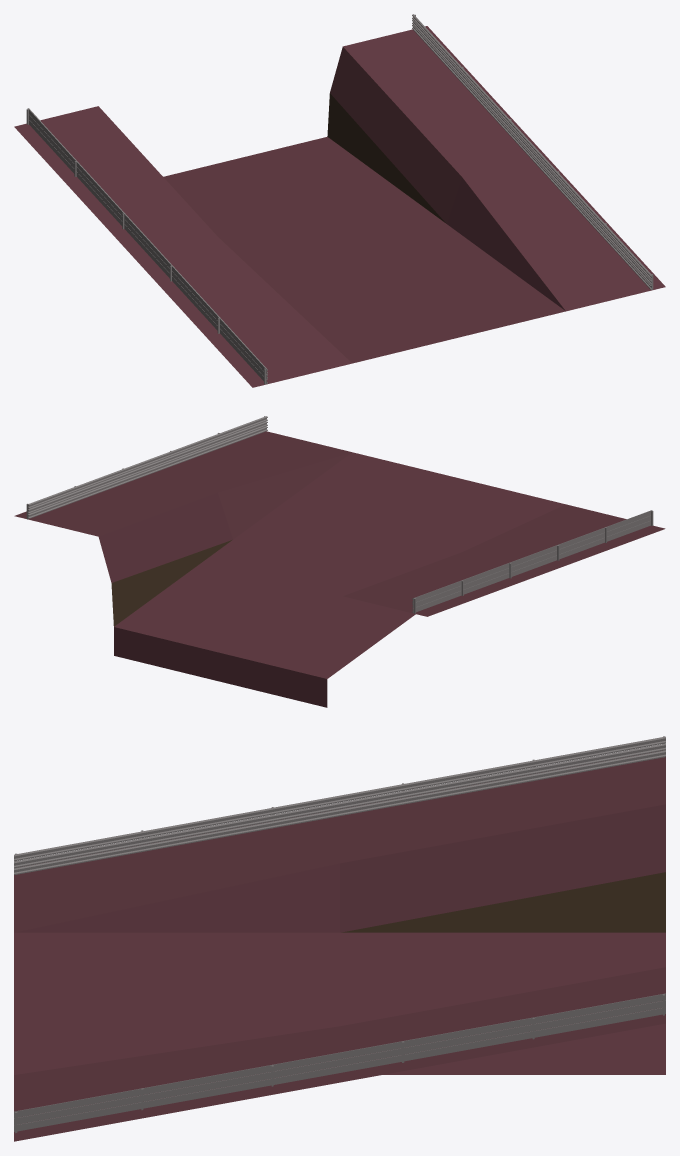
File: tiles-nb-tile-race-track-cliff-entrance-nb.glb
3 renders of one model, top to bottom at view 1: azimuth 30°, elevation 25°; view 2: azimuth 150°, elevation 25°; view 3: azimuth 270°, elevation 25°, orthographic. The views are drawn at different scales.
Visible parts, largest first — view 1: tile-race-track-cliff-entrance-nb; view 2: tile-race-track-cliff-entrance-nb; view 3: tile-race-track-cliff-entrance-nb.
Boxes of the visible parts, x1=… form: tile-race-track-cliff-entrance-nb: x1=14, y1=14, x2=665, y2=387; tile-race-track-cliff-entrance-nb: x1=14, y1=416, x2=665, y2=707; tile-race-track-cliff-entrance-nb: x1=14, y1=736, x2=665, y2=1141.
Bounding box in the file's own units: 30 × 9.05 × 30.
